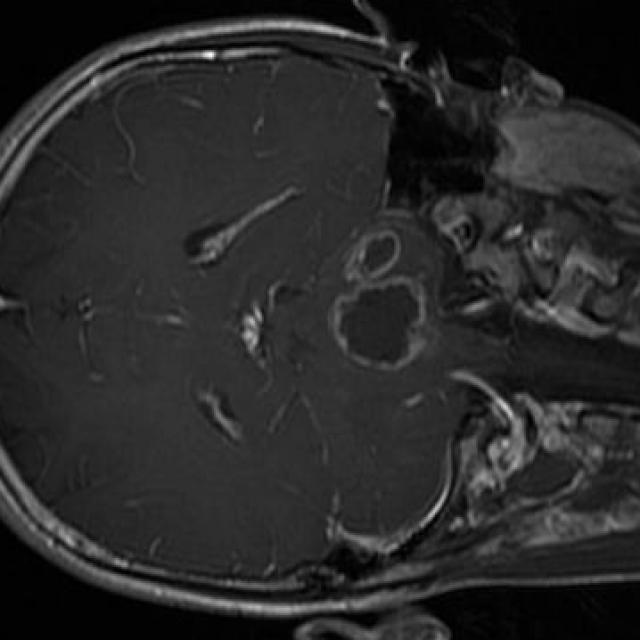glioma: (328, 230, 430, 373)
